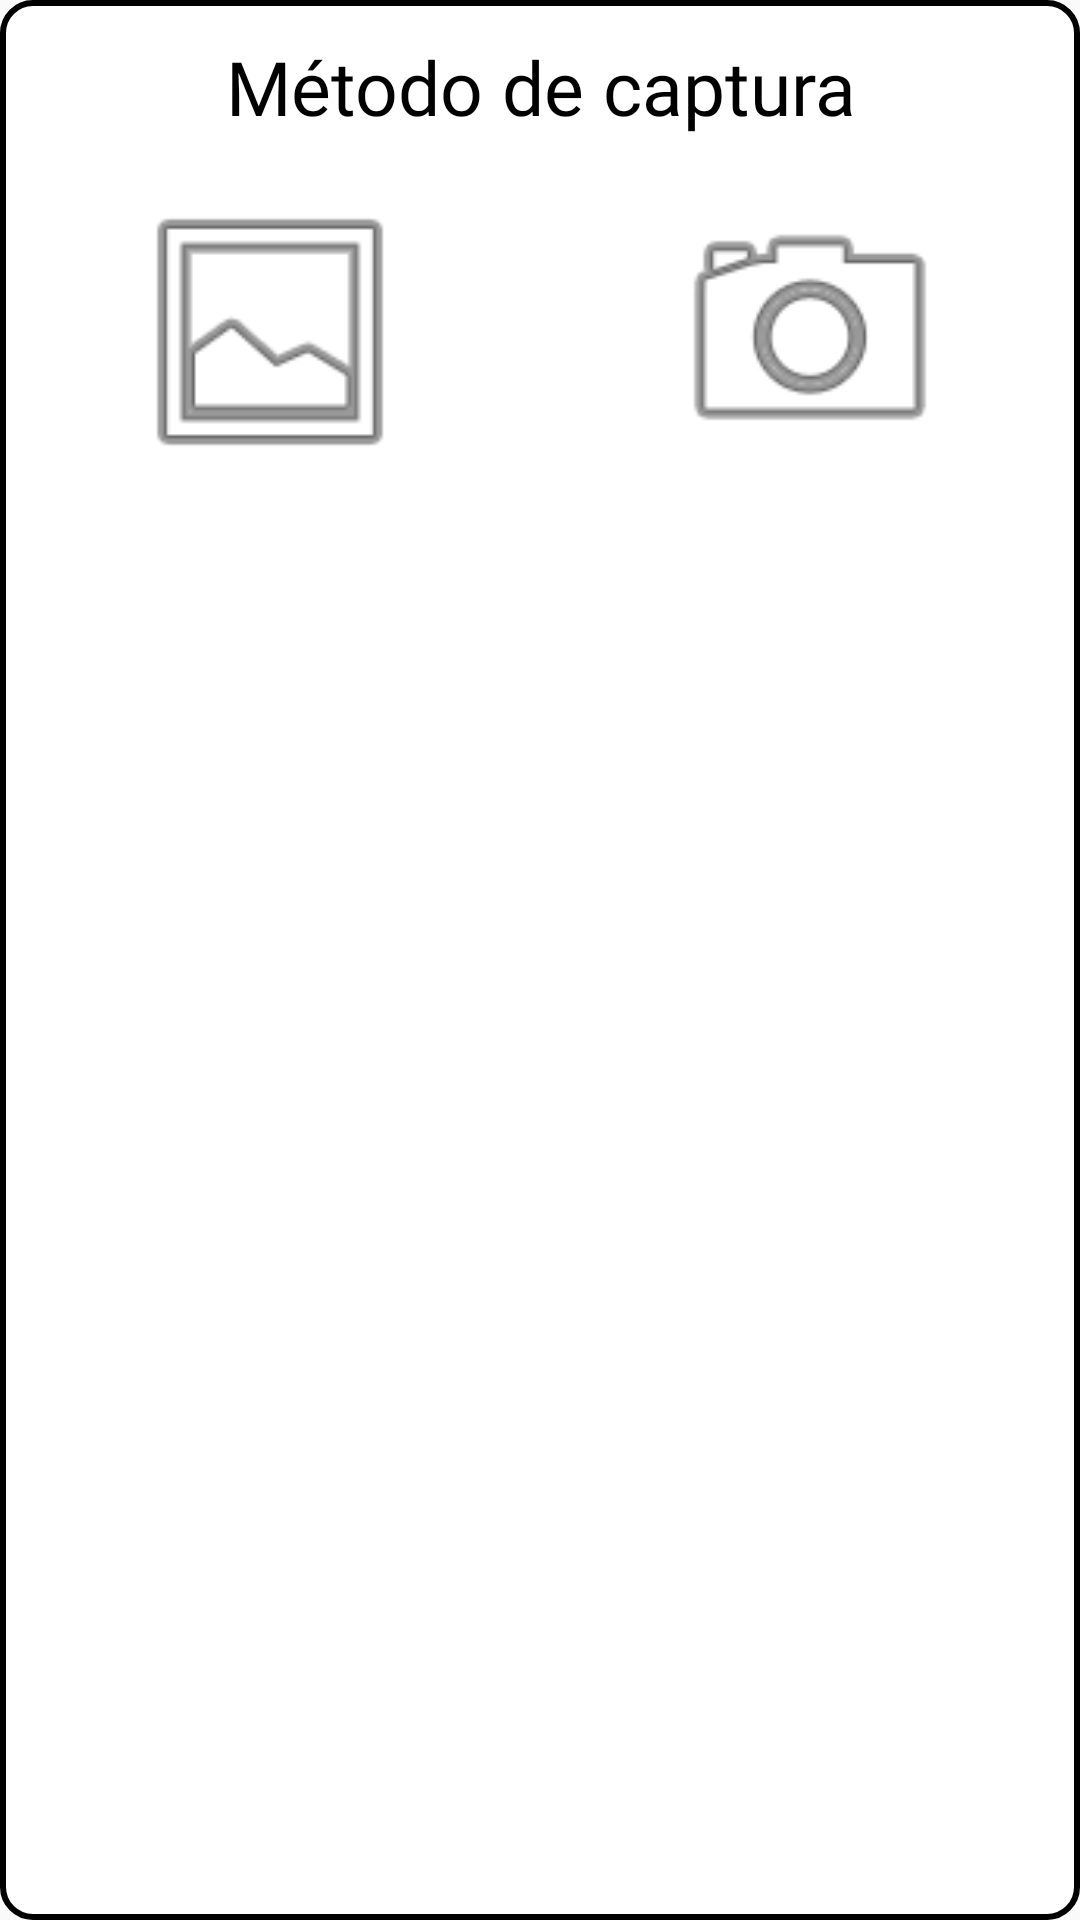

Point at icon controls on the screen. Image size 1080px x 1920px, points as (x,y).
camera: (810,327)
gallery: (270,332)
